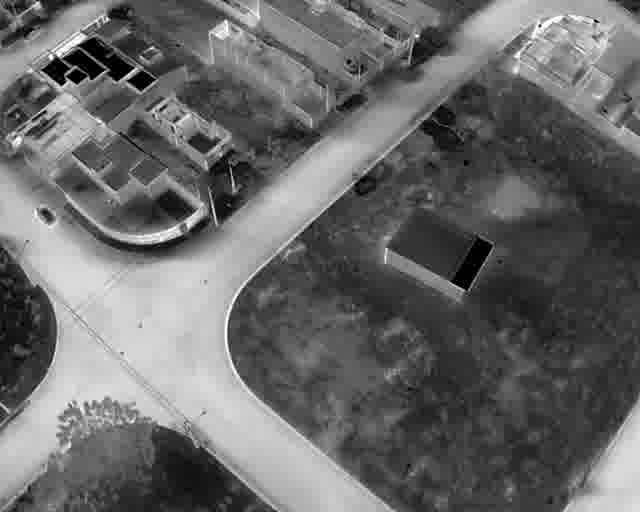car: (33, 204, 56, 228), (24, 25, 40, 40)
